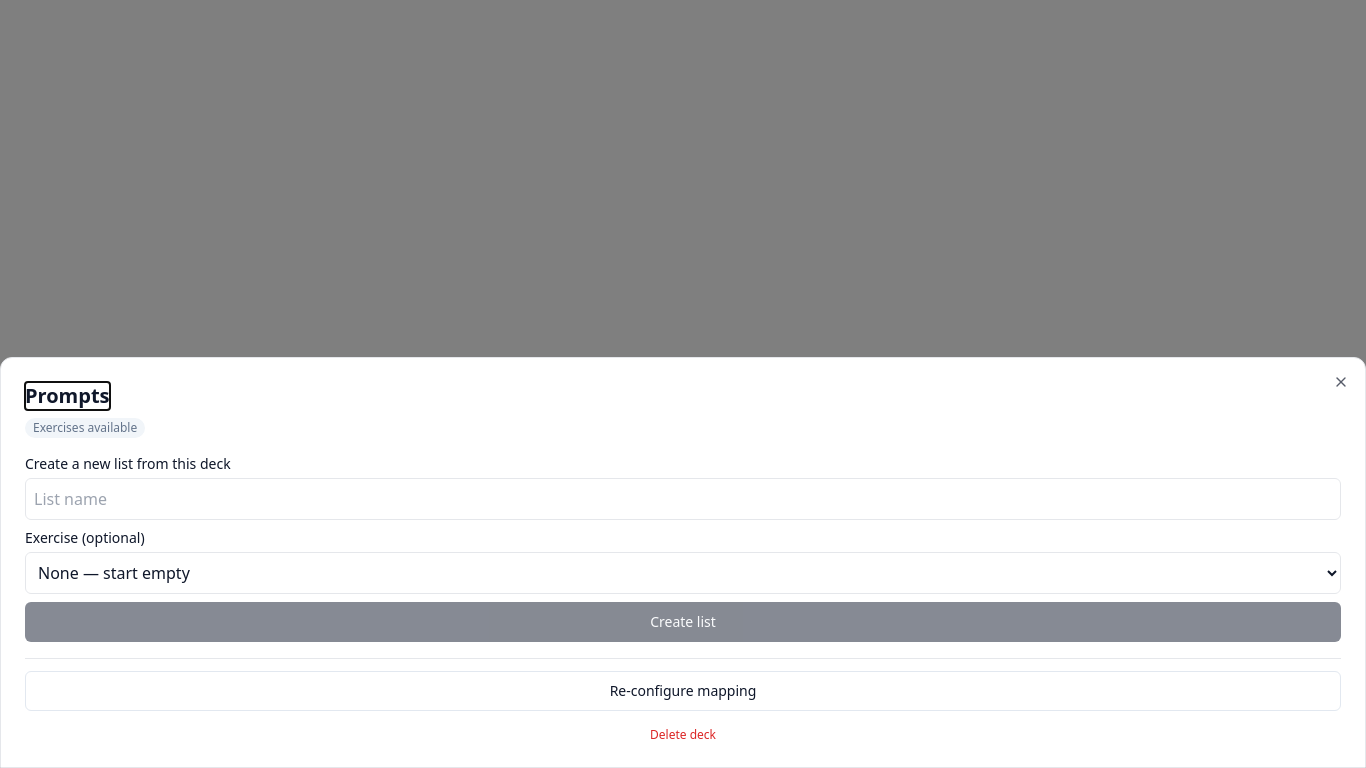
Scenario: DeckDetailSheet — with exercises › auto-fills the list name when an exercise is picked
Select "Priority" in the dropdown labelled "Exercise (optional)" at (683, 573), box [25,552,1341,594]
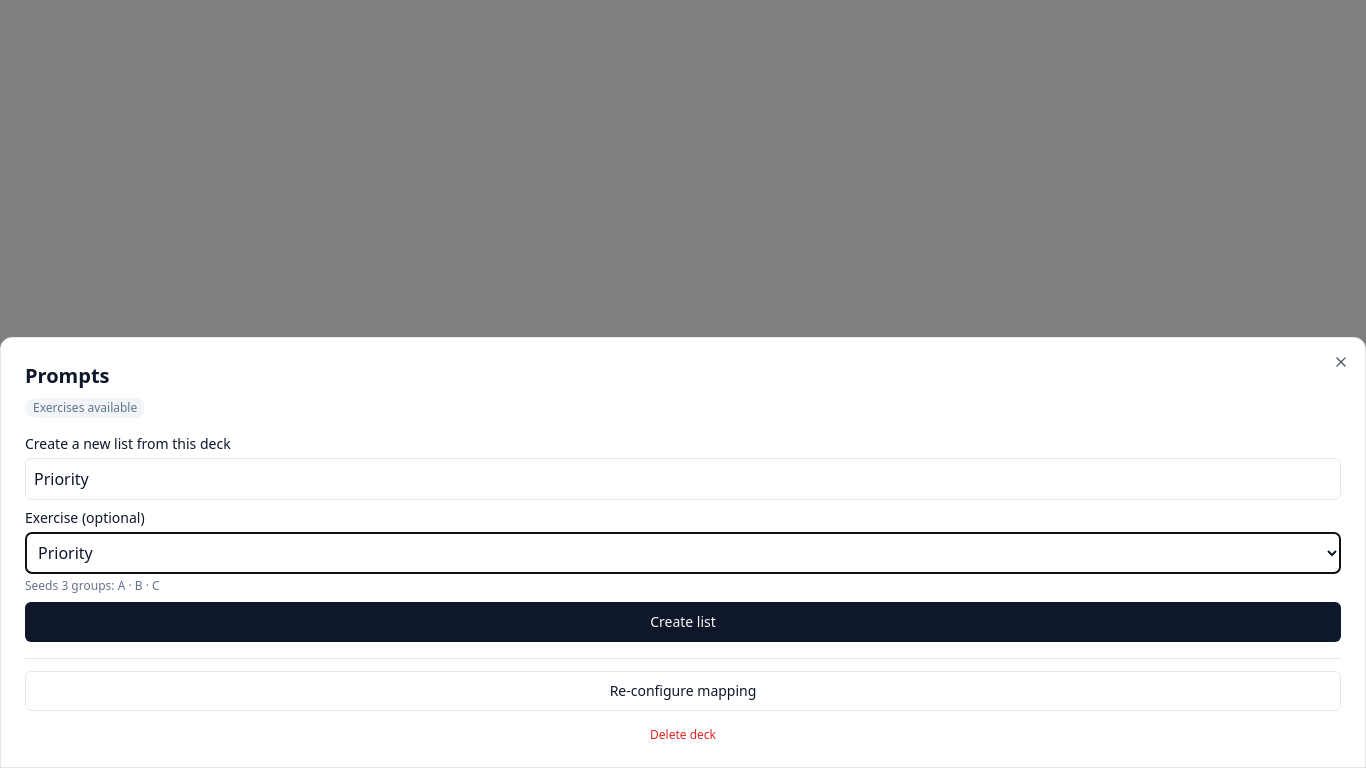
Check: the field with placeholder "List name" holds "Priority", box [25,458,1341,500]
Check: the text "Seeds 3 groups: A · B · C" is shown, box [25,577,160,594]
